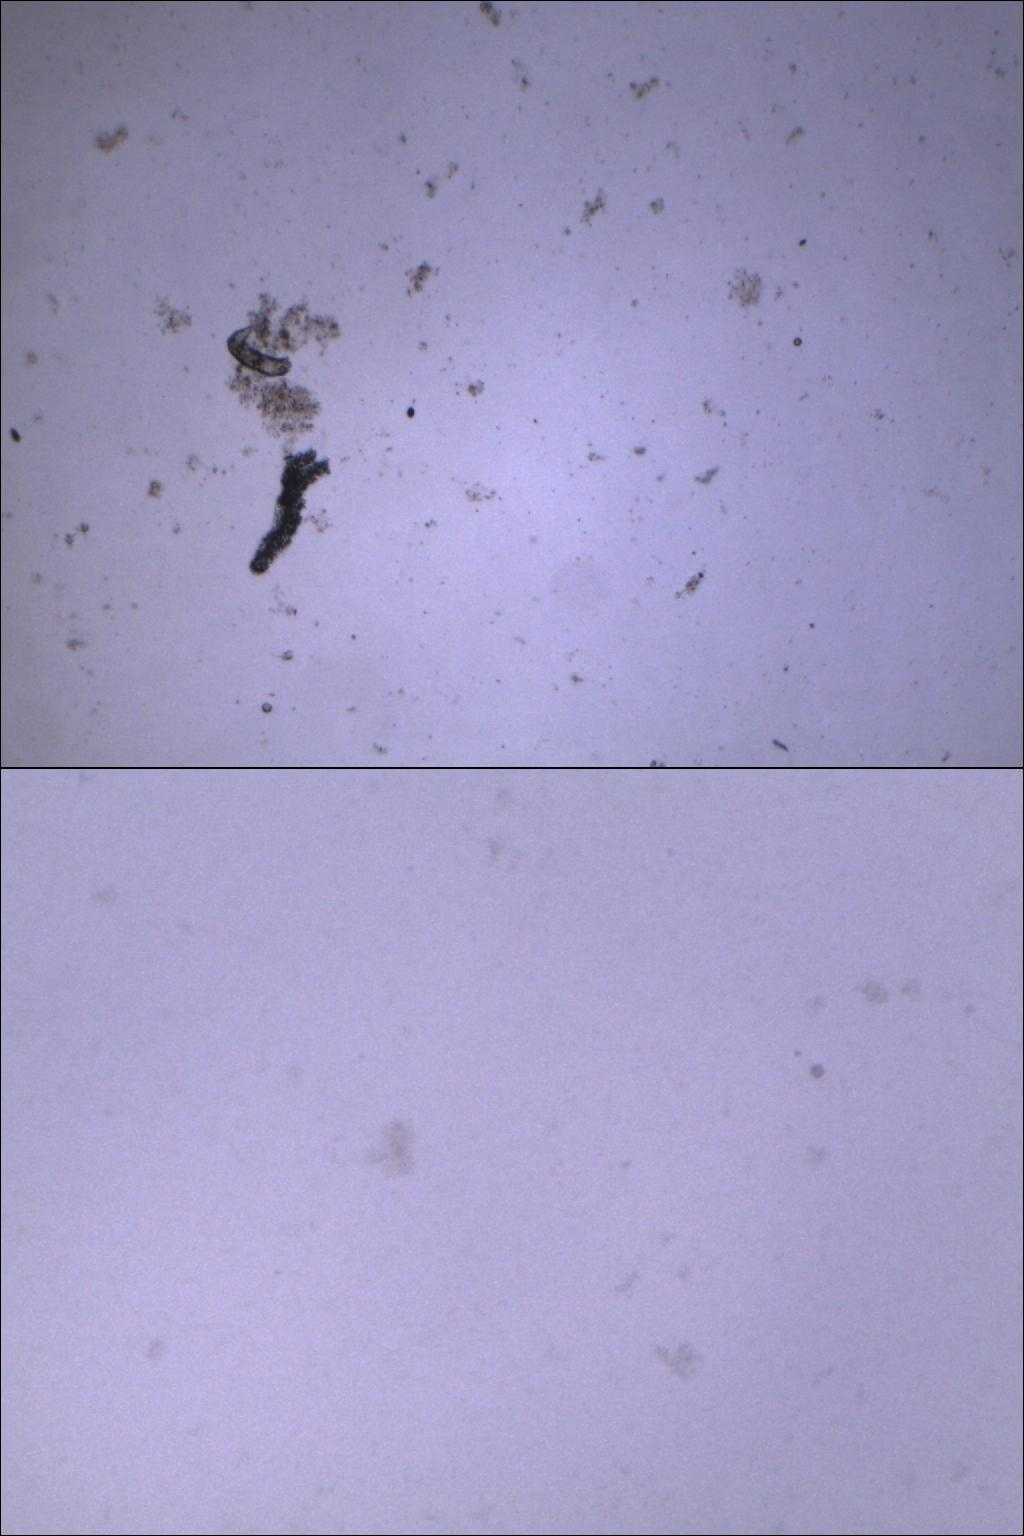N.Fowleri Amoeba: (338, 1101, 440, 1200)
Proteus Amoeba: (232, 434, 347, 590)
